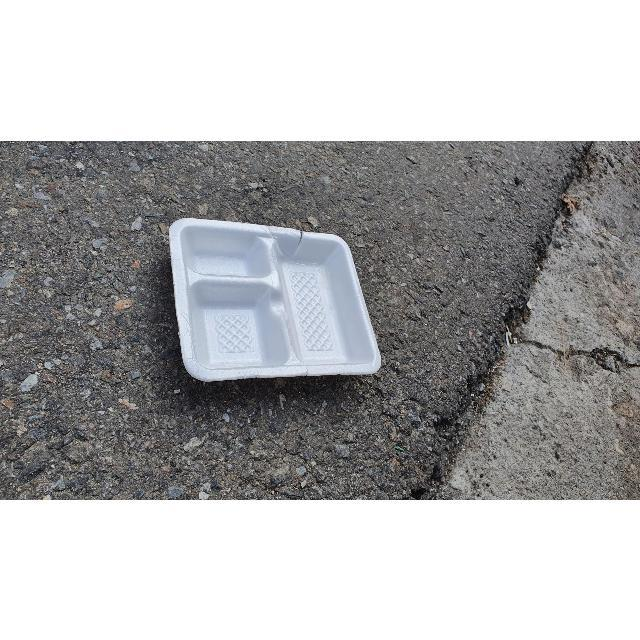Recipiente plastico: (171, 219, 380, 380)
